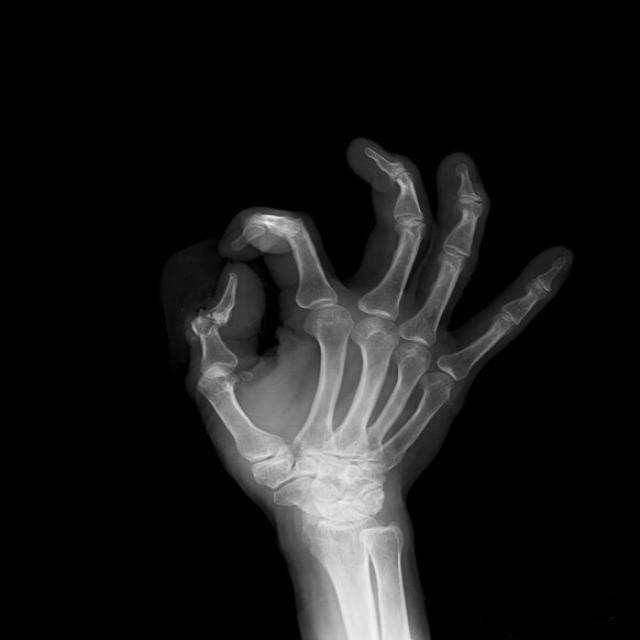Oblique: (162, 269, 246, 360)
